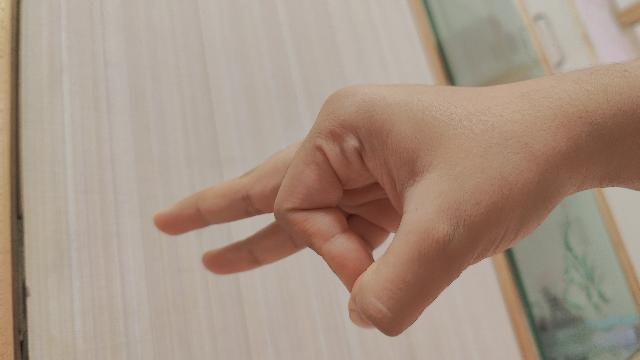katak: (151, 60, 640, 338)
